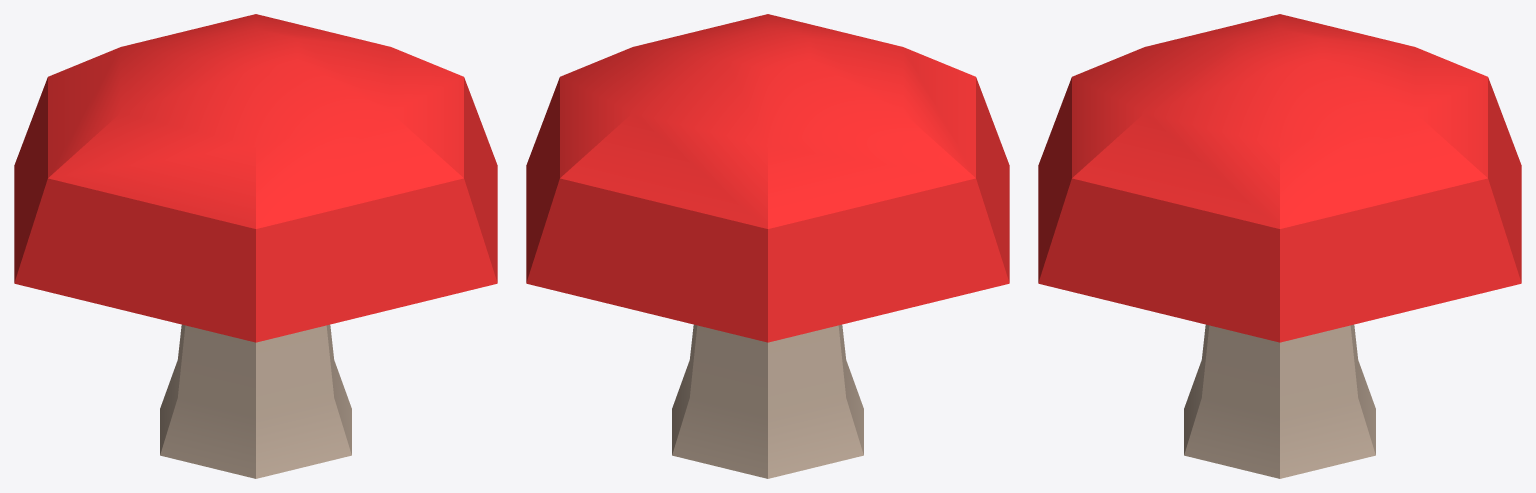
Rendered from Vegetation_Mushroom_Red_03.fbx.
The picture shows the model from 3 angles, left to right: view 1: azimuth 30°, elevation 25°; view 2: azimuth 150°, elevation 25°; view 3: azimuth 270°, elevation 25°; orthographic projection.
Visible parts, largest first — view 1: Vegetation_Mushroom_Red_03; view 2: Vegetation_Mushroom_Red_03; view 3: Vegetation_Mushroom_Red_03.
Part boxes in pixels (left/top/right/bottom): Vegetation_Mushroom_Red_03: left=14, top=14, right=497, bottom=478; Vegetation_Mushroom_Red_03: left=526, top=14, right=1009, bottom=478; Vegetation_Mushroom_Red_03: left=1038, top=14, right=1521, bottom=478.
Size of the model in its own units: 16.38 by 12.39 by 14.19.
